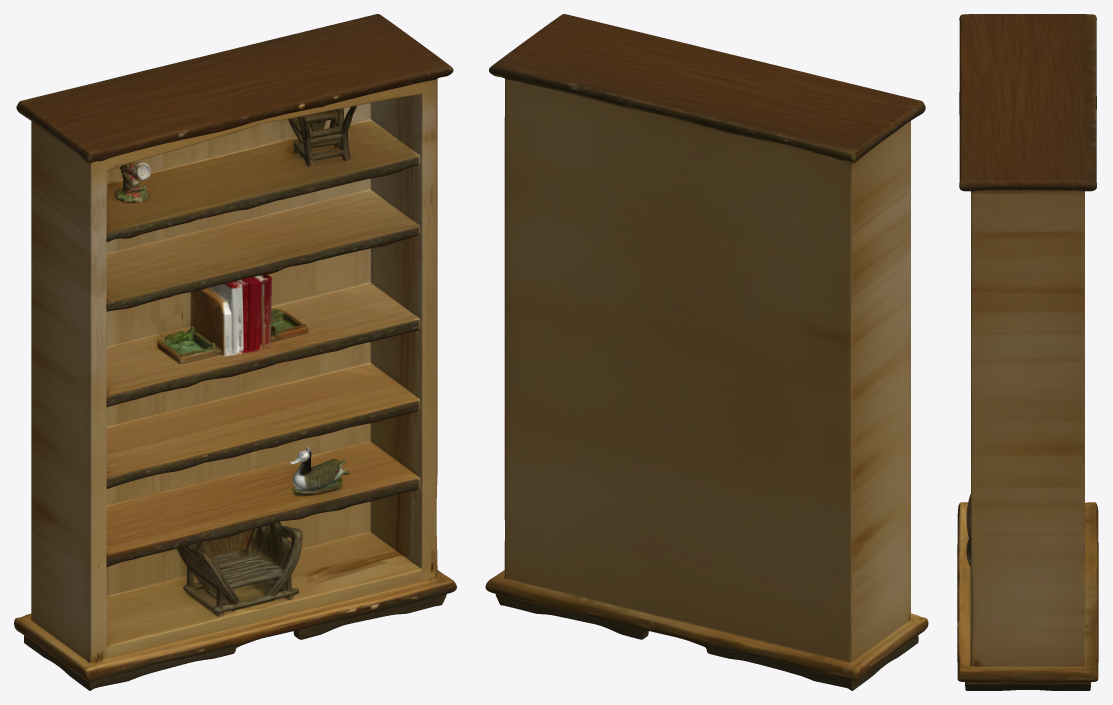
File: c09-realistic.glb
3 views of the same model, side by side, from view 1: azimuth 30°, elevation 25°; view 2: azimuth 150°, elevation 25°; view 3: azimuth 270°, elevation 25° (orthographic). The views are drawn at different scales.
Parts seen in each view (by area): view 1: node_0; view 2: node_0; view 3: node_0.
Boxes of the visible parts, x1=… form: node_0: x1=14, y1=14, x2=456, y2=690; node_0: x1=485, y1=14, x2=928, y2=690; node_0: x1=957, y1=14, x2=1098, y2=690.
Size of the model in its own units: 0.6949 by 0.9697 by 0.242.
Materials: 1 (1 with a texture image).
